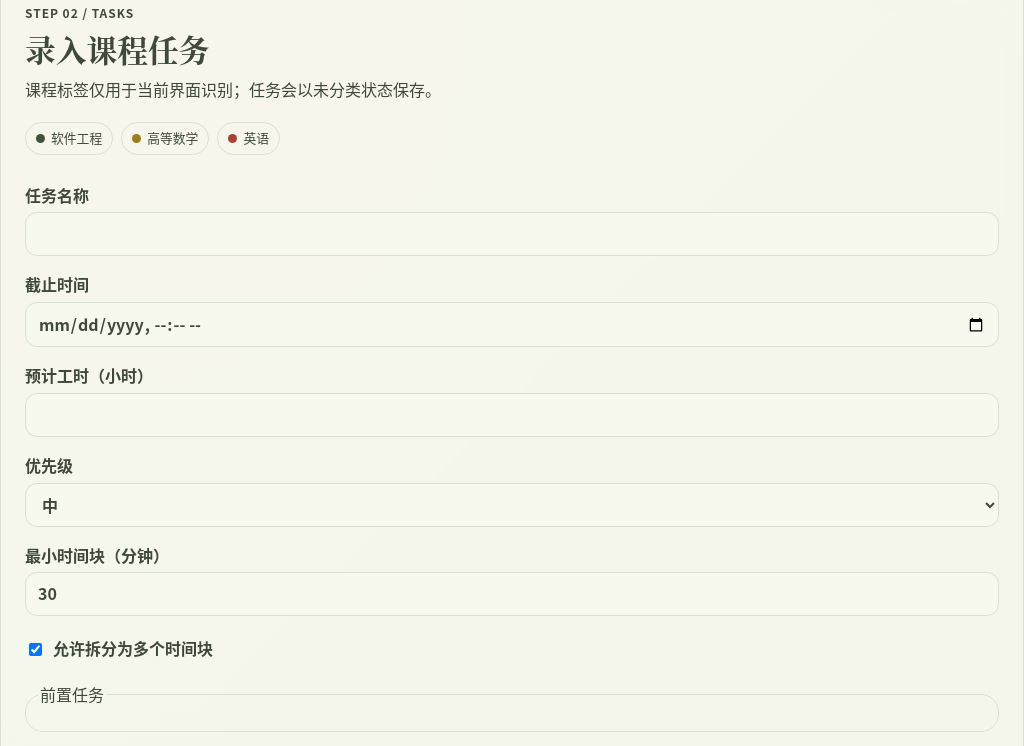
Test: TaskStep › creates 英语演讲准备 with its deadline, hours, and priority
The image size is (1024, 746).
Type "英语演讲准备" into the field labelled "任务名称" at x=512, y=234, box [25,212,999,256]
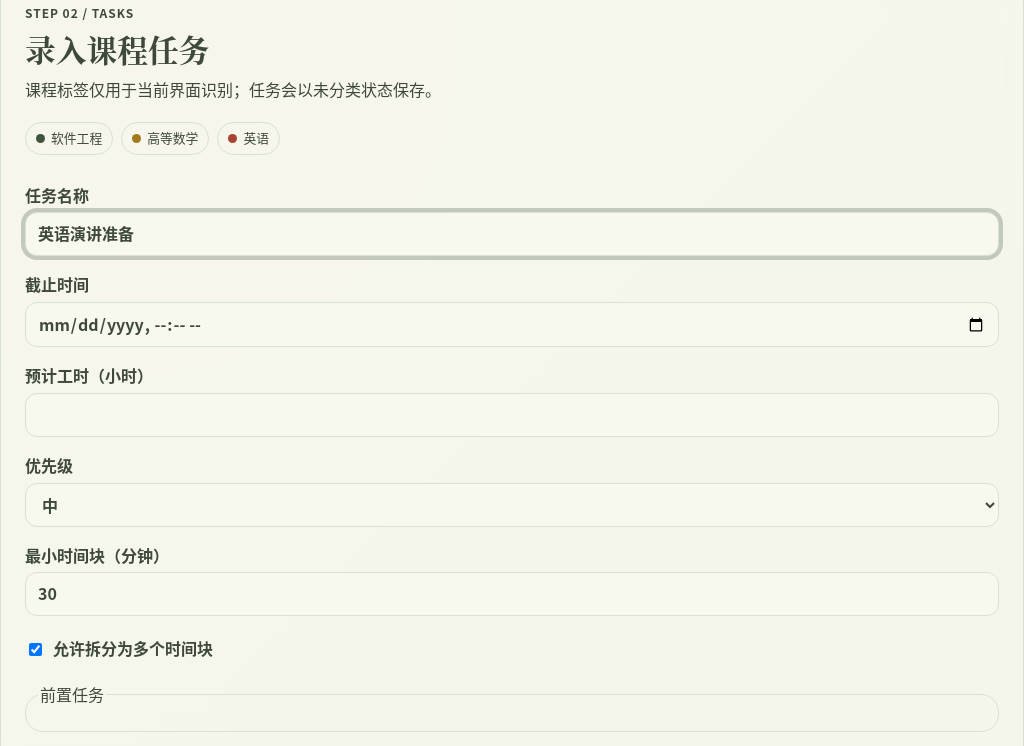
Type "2026-08-22T18:00" into the field labelled "截止时间" at x=512, y=325, box [25,302,999,347]
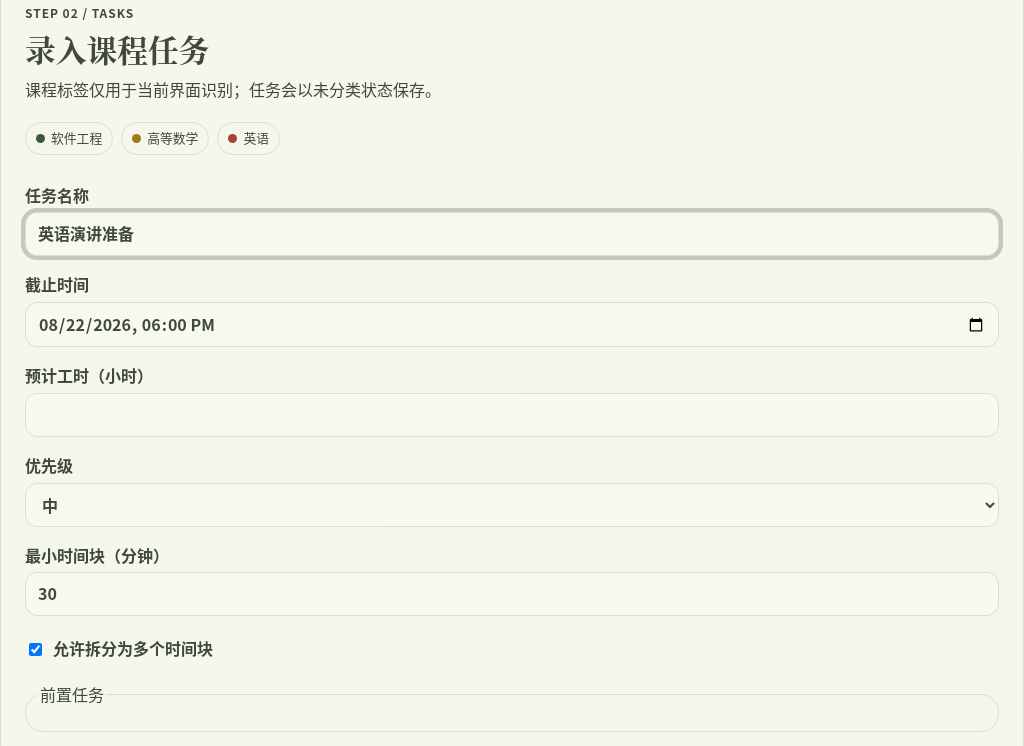
Type "3.5" into the number field labelled "预计工时（小时）" at x=512, y=415, box [25,393,999,437]
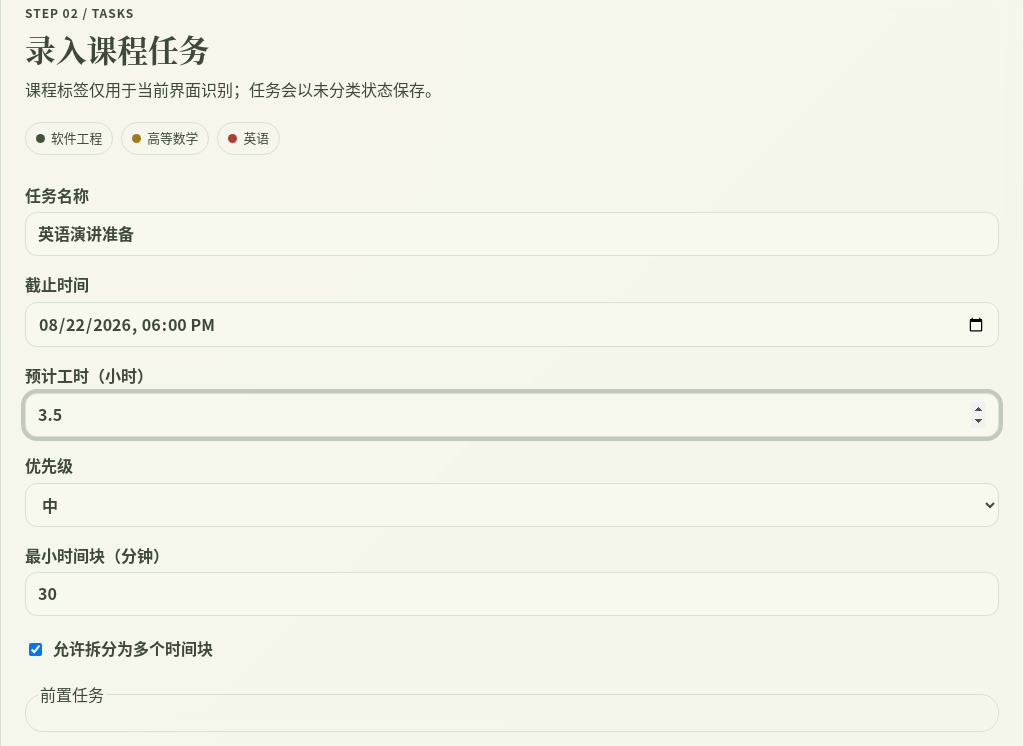
Select "低" in the dropdown labelled "优先级" at x=512, y=505, box [25,483,999,527]
(page scrolled)
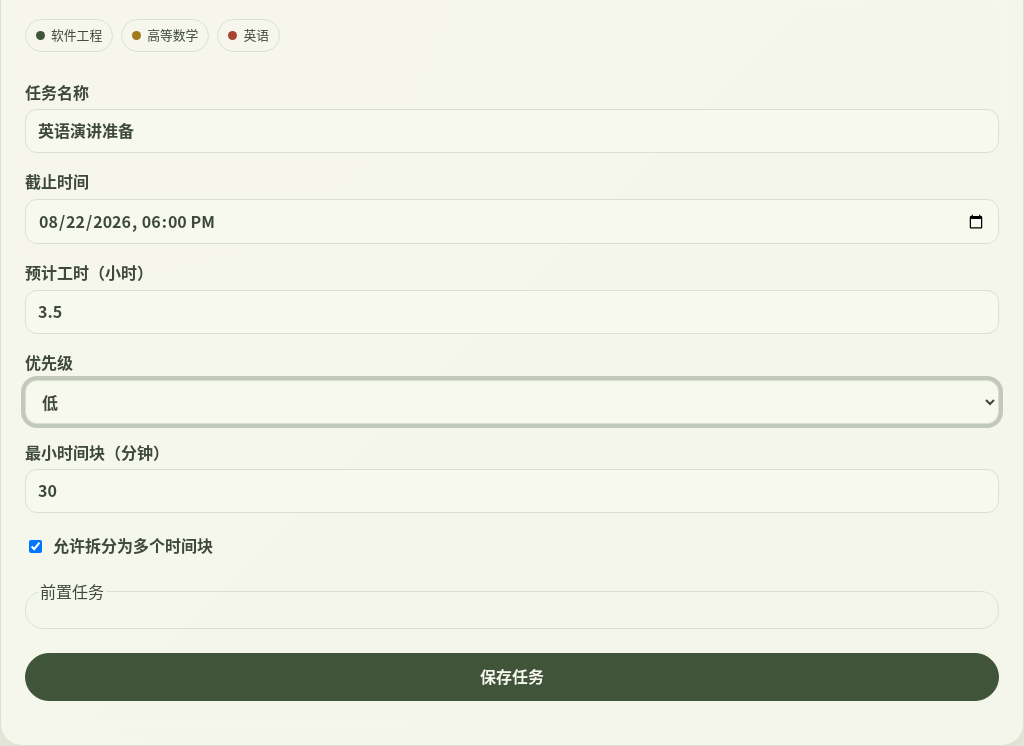
Click the button "保存任务" at x=512, y=677, box [25,653,999,701]
(page scrolled)
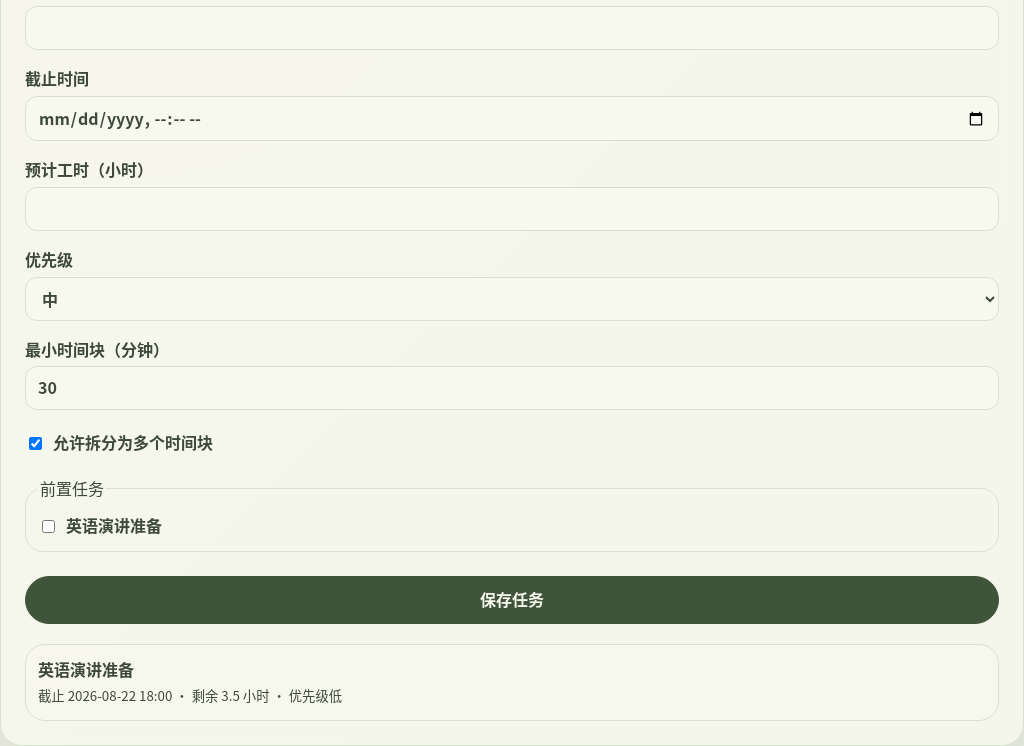
Check: the text "英语演讲准备" is shown, box [38,657,134,681]
Check: the text "优先级低" is shown, box [289,686,342,705]
